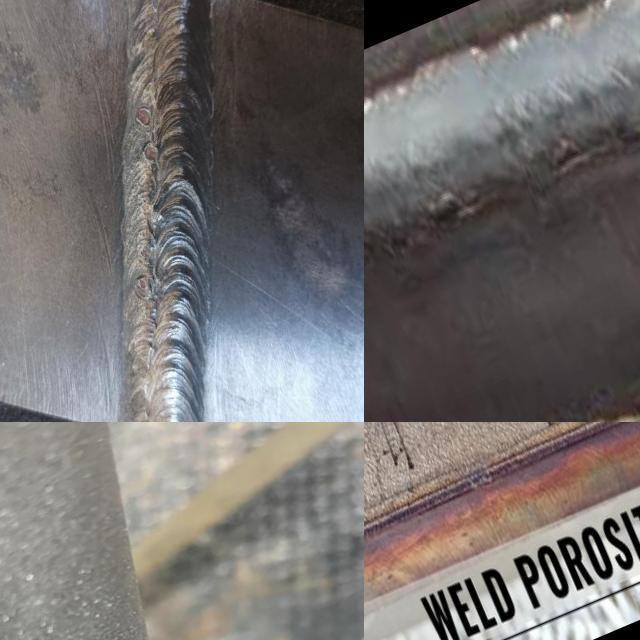defect: (132, 103, 154, 131), (139, 141, 160, 166), (132, 277, 151, 300), (136, 240, 153, 264), (135, 190, 150, 210)
